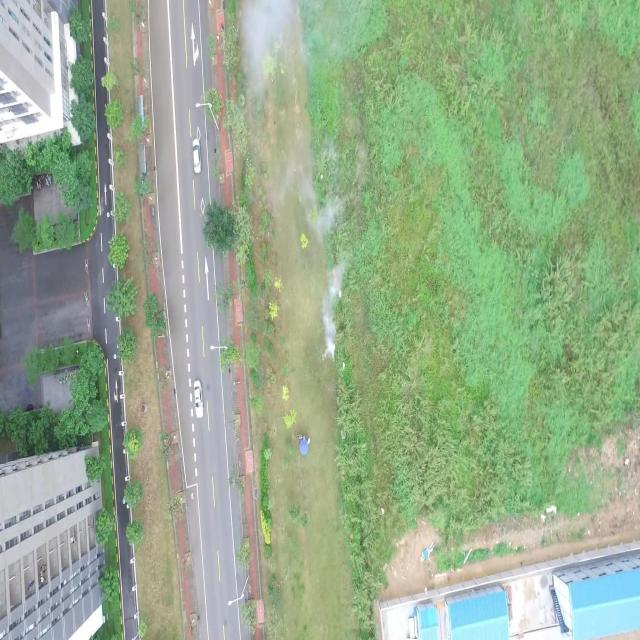smoke: (239, 3, 292, 97), (298, 174, 343, 241), (322, 271, 341, 358)
